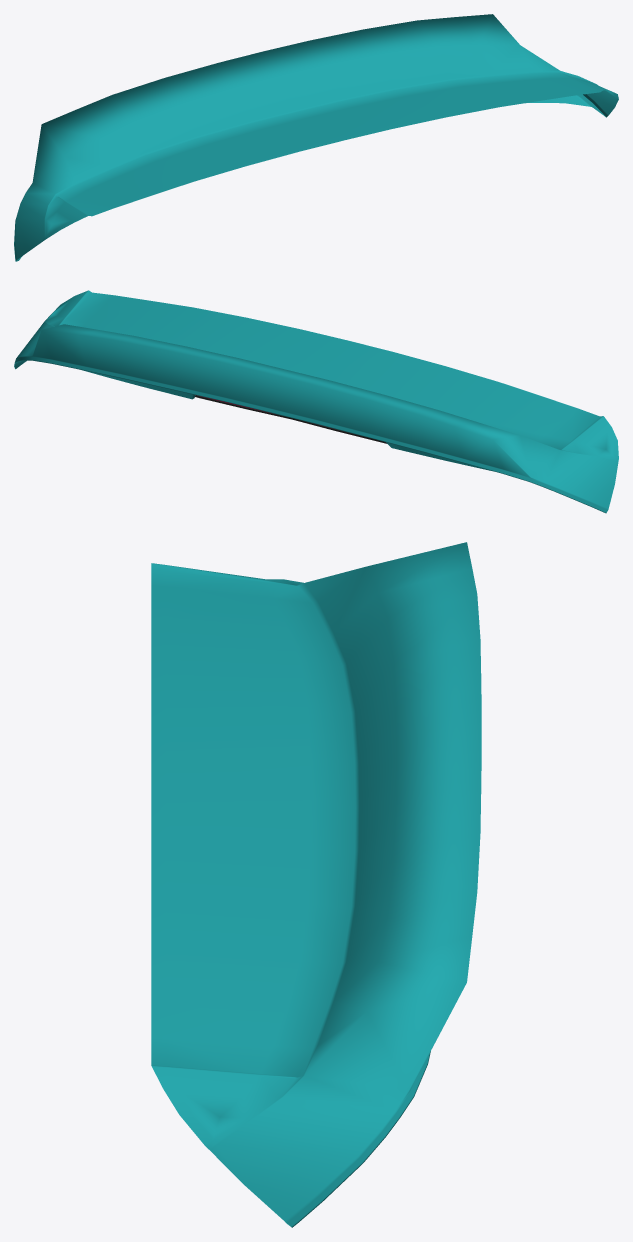
The model's file is car spoiler 4.glb.
3 views of the same model, one above another, from view 1: azimuth 30°, elevation 25°; view 2: azimuth 150°, elevation 25°; view 3: azimuth 270°, elevation 25° (orthographic). The views are drawn at different scales.
Visible parts, largest first — view 1: RearDoor.003; view 2: RearDoor.003; view 3: RearDoor.003.
Boxes of the visible parts, <box> form: RearDoor.003: <box>14,14,618,261</box>; RearDoor.003: <box>14,290,618,513</box>; RearDoor.003: <box>151,542,481,1227</box>.
Size of the model in its own units: 1.24 by 0.2083 by 0.3006.
